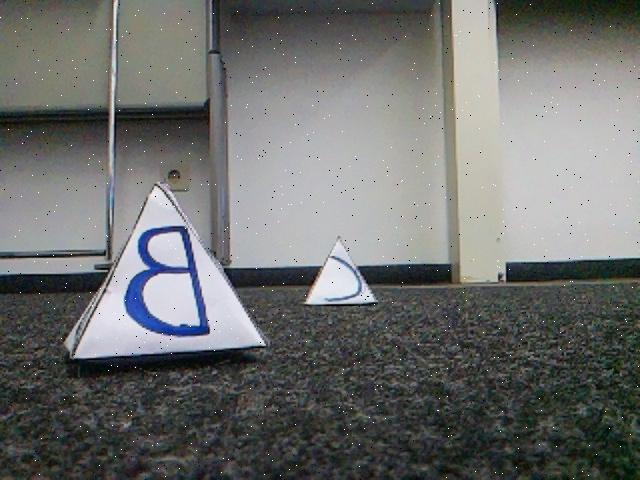B: (73, 182, 268, 359)
C: (303, 235, 377, 308)
